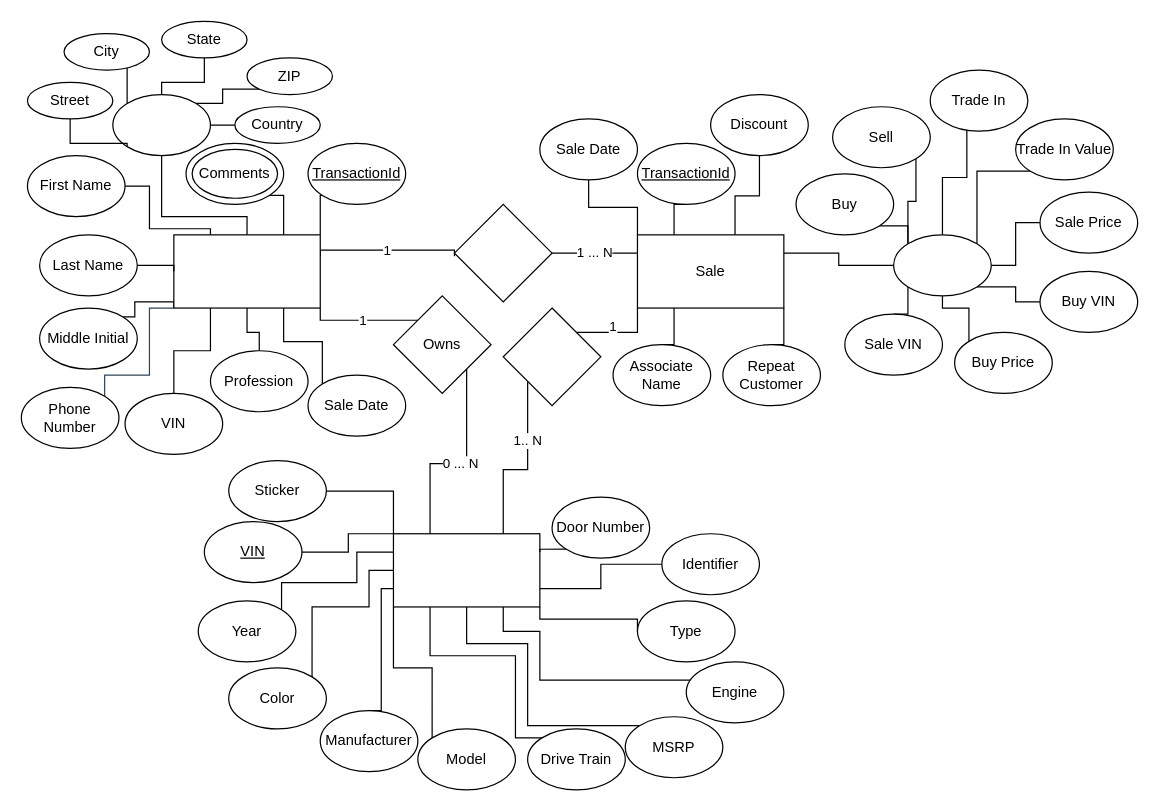
Image size: 1159x811. Some labels were removed from this diagram. The shapes that lost their labels are listed below. From the top down, each one's centre as x and y in pixels, then its label:
At [161,124]: "Address".
At [246,271]: "Customer".
At [502,252]: "Made Transaction".
At [941,265]: "Transaction".
At [551,356]: "Is Part Of".
At [466,570]: "Vehicle".
